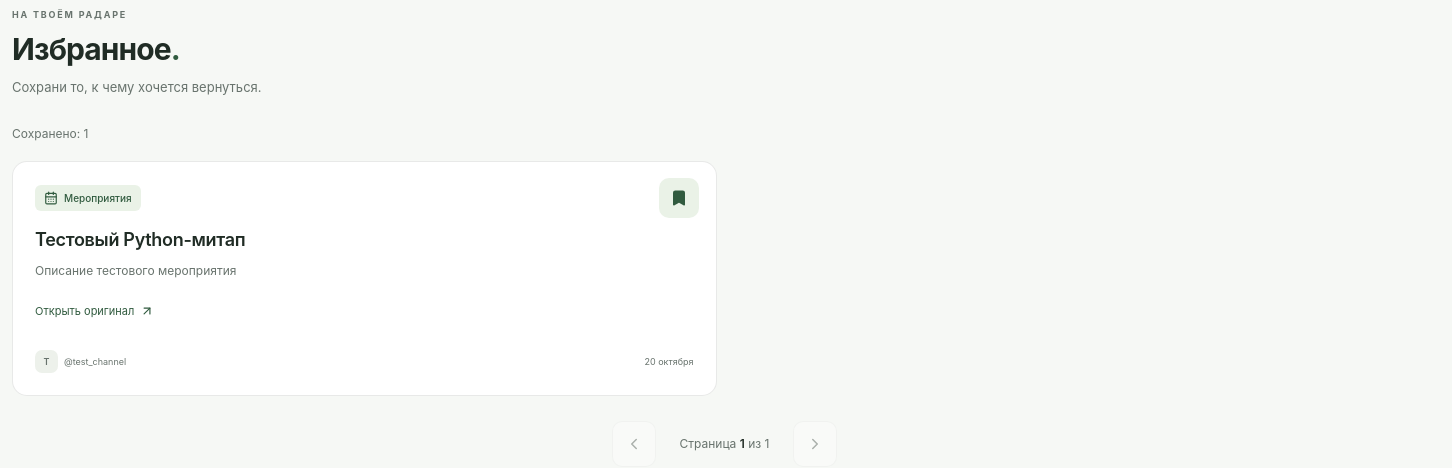
Test: Server-backed favorites › renders saved cards, original links and removes a confirmed deletion
Check: the heading "Тестовый Python-митап" is shown, box 35,227 -> 245,252
Click the button named "Удалить из избранного": point(678, 198) 658,178 -> 698,218
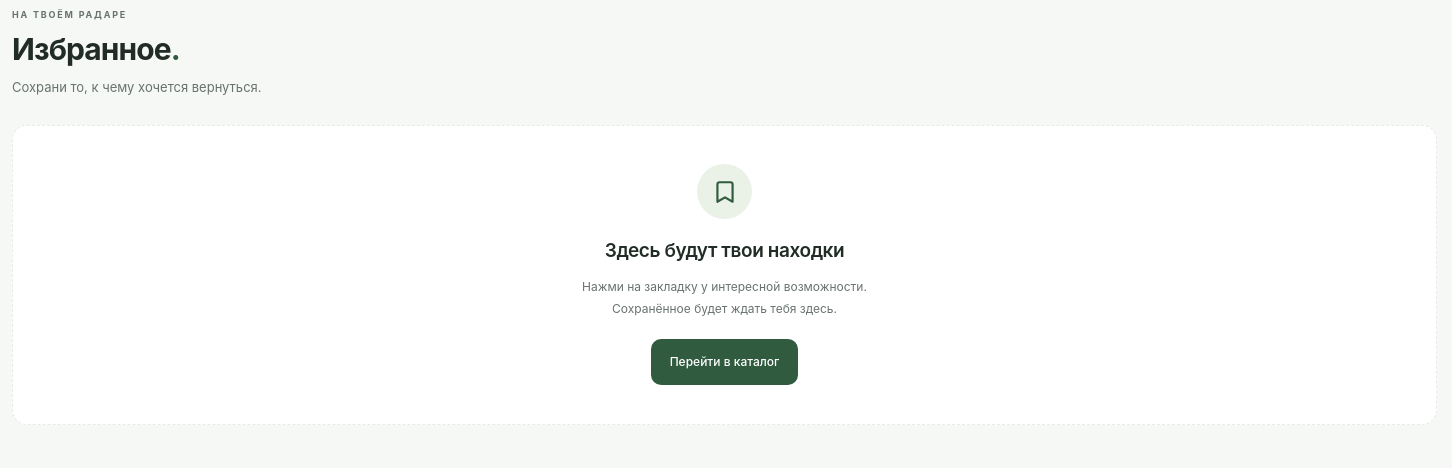
Check: the heading "Здесь будут твои находки" is shown, box 605,238 -> 844,266
